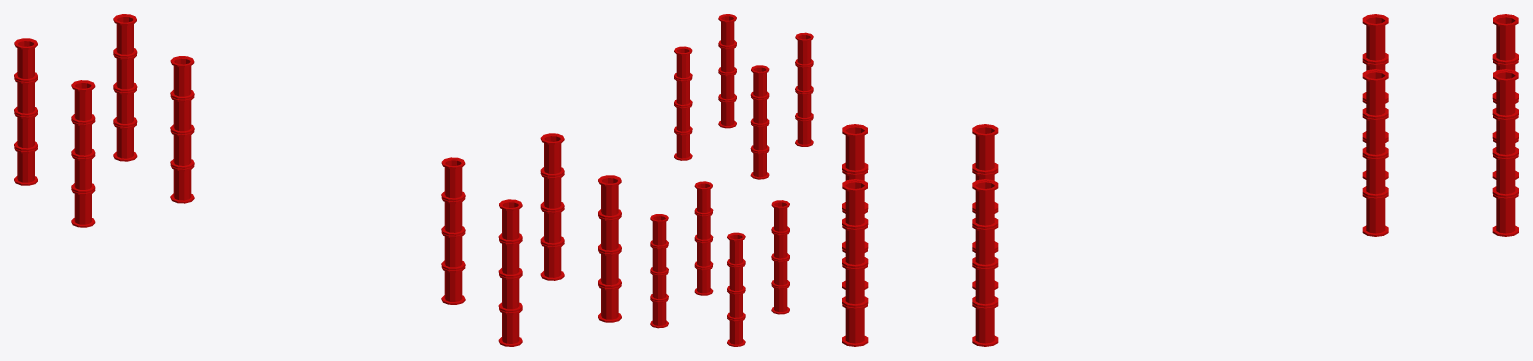
The model's file is object_42_lev2.glb.
3 renders of one model, left to right at view 1: azimuth 30°, elevation 25°; view 2: azimuth 150°, elevation 25°; view 3: azimuth 270°, elevation 25°, orthographic. The views are drawn at different scales.
Visible parts, largest first — view 1: object_42_lev2; view 2: object_42_lev2; view 3: object_42_lev2.
Part boxes in pixels (x1,y1,x2,y2): object_42_lev2: (14, 14, 621, 346); object_42_lev2: (650, 14, 813, 346); object_42_lev2: (842, 14, 1518, 346).
Bounding box in the file's own units: 13.32 × 5.5 × 21.58.
